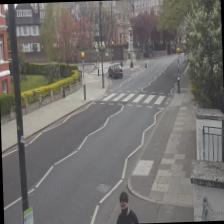person: (114, 190, 139, 224)
